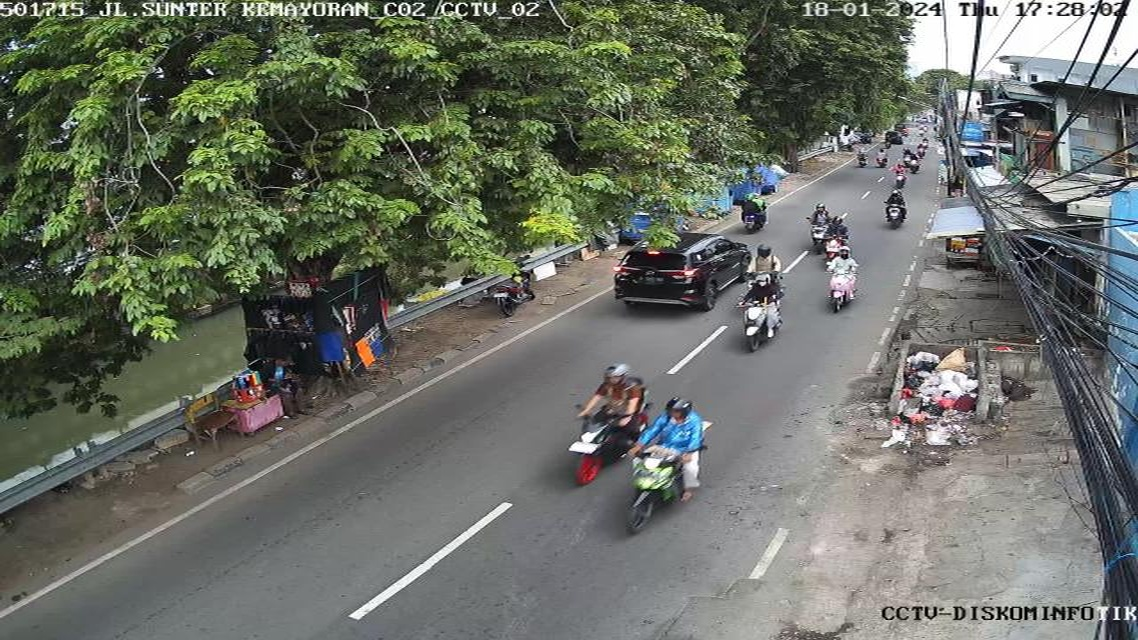Gerobak: (212, 370, 288, 433)
